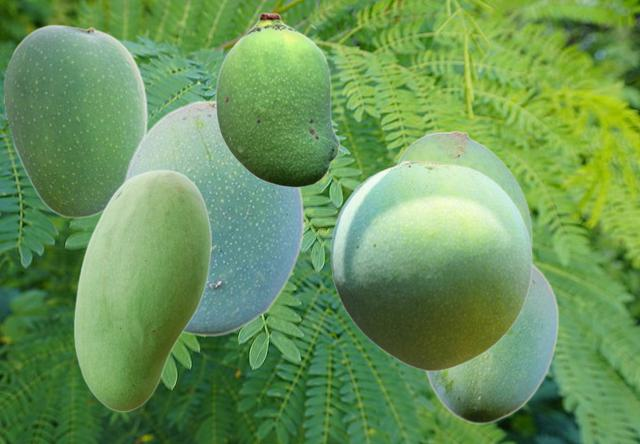green_mango: (121, 99, 304, 336), (330, 159, 531, 370), (73, 169, 210, 411), (3, 24, 147, 217), (423, 261, 558, 423), (215, 12, 339, 187), (395, 130, 531, 241)
